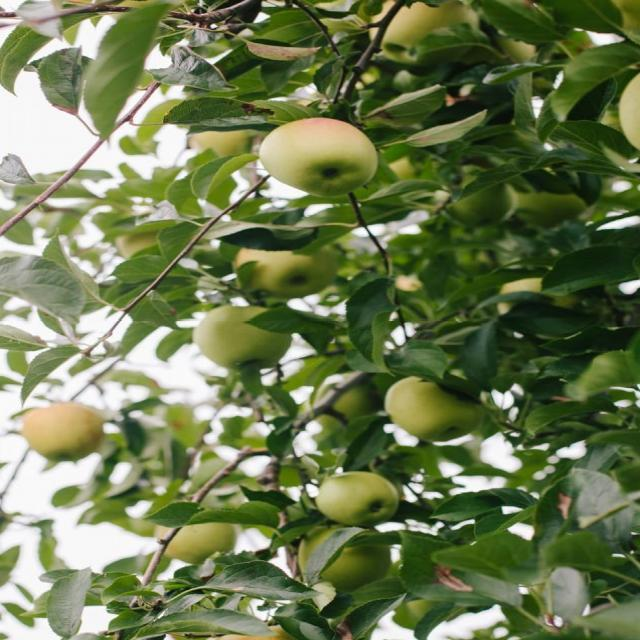Green Apple: (265, 119, 372, 189), (365, 1, 468, 63), (240, 237, 334, 299), (384, 372, 472, 437), (297, 522, 381, 590), (195, 306, 284, 369), (27, 400, 103, 460), (324, 469, 396, 521), (153, 517, 227, 562), (193, 116, 265, 162), (445, 174, 507, 223), (505, 183, 570, 222), (315, 382, 378, 420), (619, 62, 640, 156), (196, 625, 318, 640)
